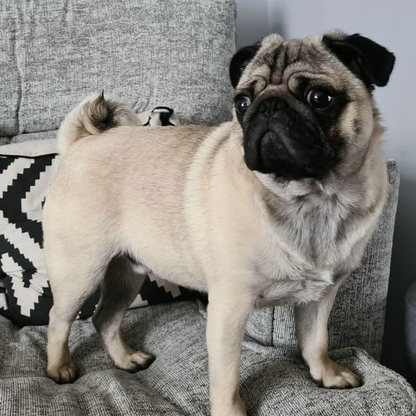Pug: (38, 27, 400, 416)
